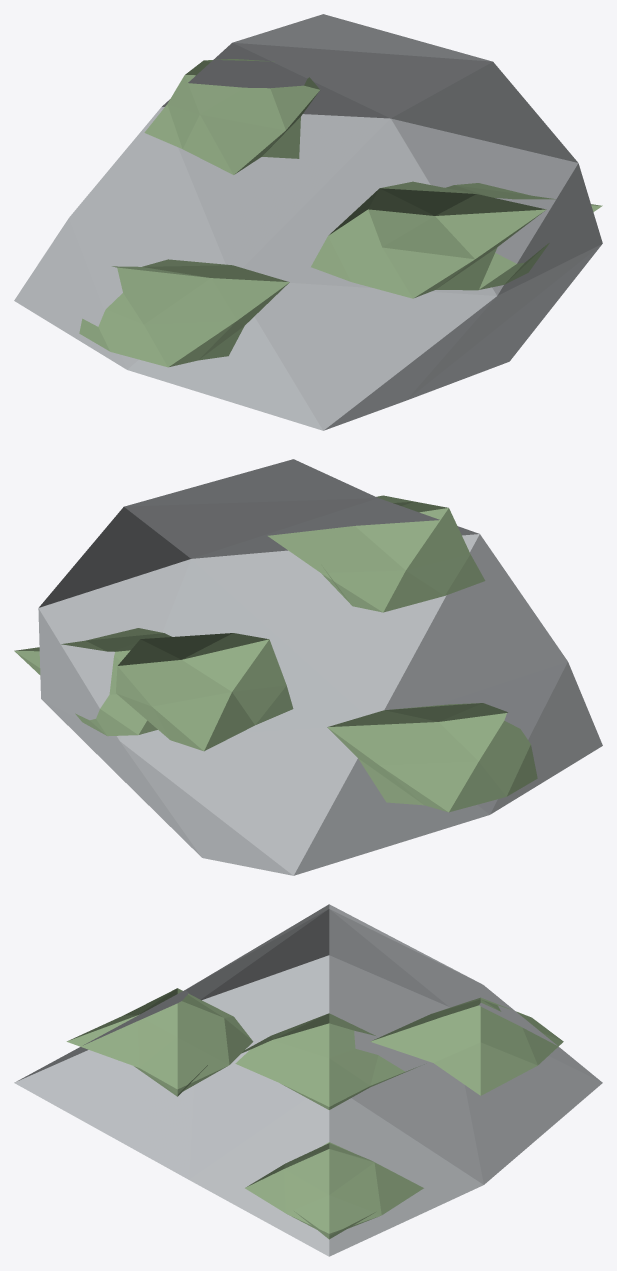
File: moss_rock_v17.glb
3 renders of one model, top to bottom at view 1: azimuth 30°, elevation 25°; view 2: azimuth 150°, elevation 25°; view 3: azimuth 270°, elevation 25°, orthographic. The views are drawn at different scales.
Visible parts, largest first — view 1: lod0; view 2: lod0; view 3: lod0.
Part boxes in pixels (box(x1,y1,x2,y2)): lod0: box(14, 14, 602, 430); lod0: box(14, 459, 602, 875); lod0: box(14, 904, 602, 1256).
Size of what is drawn, in the model's own units: 1.04 by 0.7058 by 1.07.
